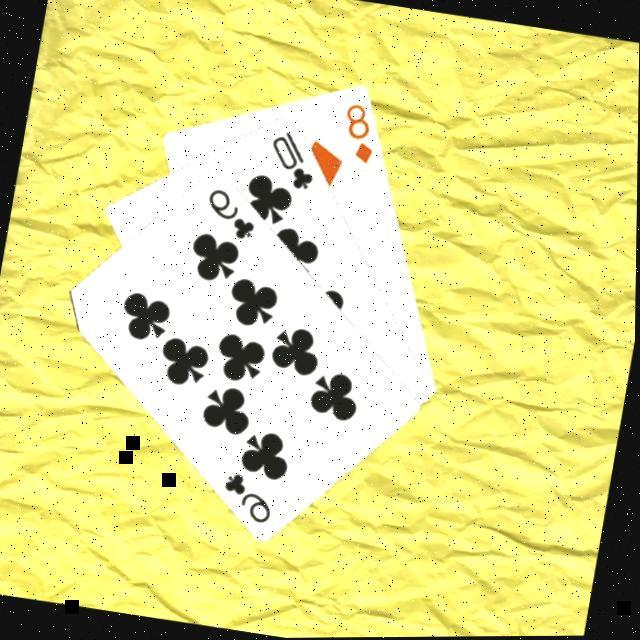10C: (263, 123, 327, 193)
8D: (335, 97, 386, 167)
9C: (200, 181, 267, 242), (217, 465, 284, 526)
